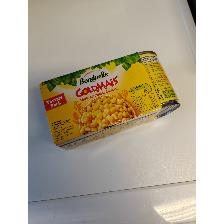Mais: (39, 46, 181, 152)
